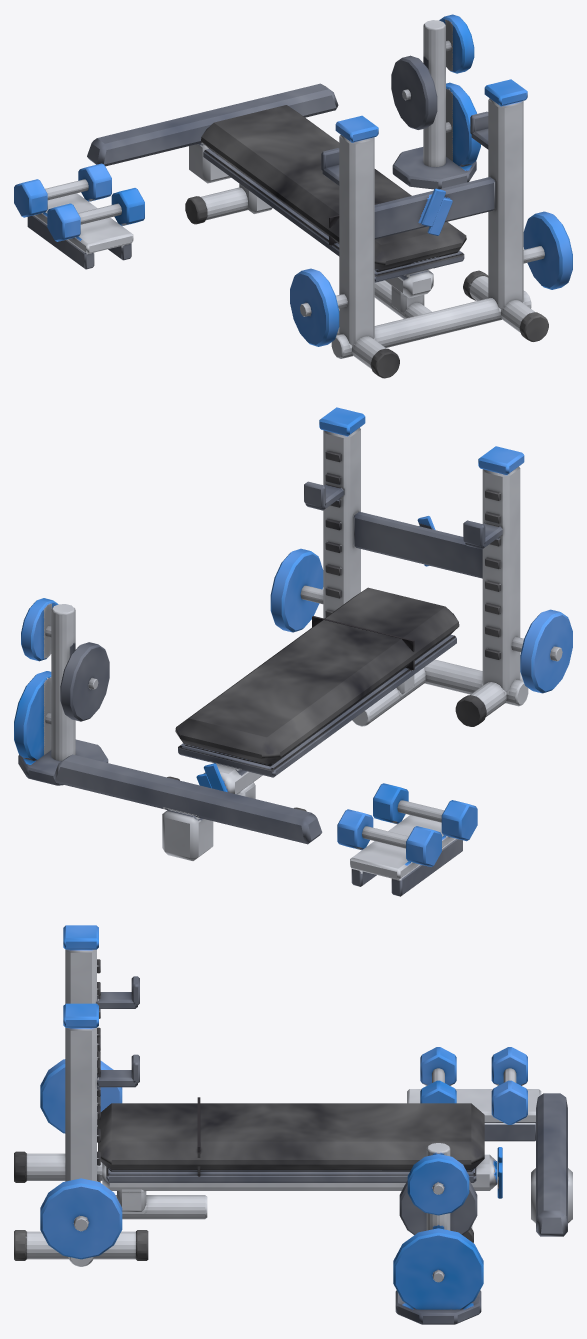
Rendered from Bench_Acier_Rig.fbx.
The picture shows the model from 3 angles, top to bottom: view 1: azimuth 30°, elevation 25°; view 2: azimuth 150°, elevation 25°; view 3: azimuth 270°, elevation 25°; orthographic projection. The views are drawn at different scales.
Parts seen in each view (by area): view 1: Rack, Weights, Bench; view 2: Rack, Weights, Bench; view 3: Bench, Weights, Rack.
Boxes of the visible parts, x1=… form: Rack: x1=290, y1=79, x2=572, y2=378; Weights: x1=14, y1=14, x2=480, y2=269; Bench: x1=185, y1=105, x2=466, y2=298; Rack: x1=270, y1=407, x2=572, y2=726; Weights: x1=14, y1=598, x2=477, y2=896; Bench: x1=167, y1=587, x2=459, y2=811; Bench: x1=98, y1=1097, x2=502, y2=1242; Weights: x1=393, y1=1047, x2=572, y2=1324; Rack: x1=14, y1=925, x2=207, y2=1266.
Bounding box in the file's own units: 11.23 × 6 × 12.2.
1 material, 1 textured.
